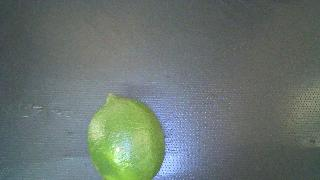EXPORTACION: (87, 94, 165, 180)
